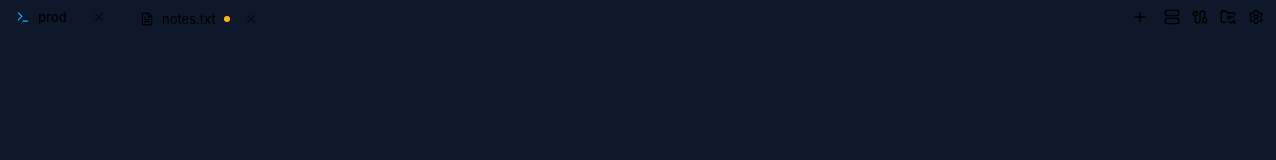
Test case: Tab context menu › offers a new window and every other window, but not the current one
Right-click the tab with test id "tab-t1" at (64, 17), box 16,4 -> 112,30
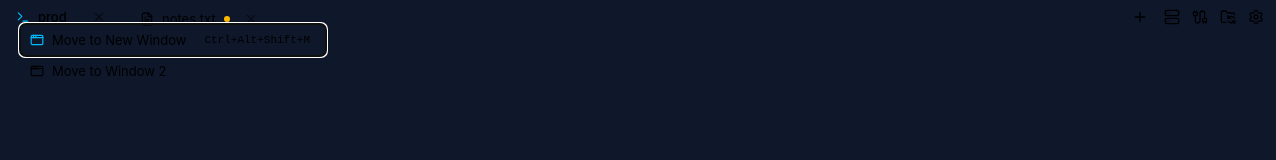
Result: the menu item with test id "tab-move-new-window" is enabled at 20,24 -> 326,56
Result: the text "Move to Window 2" is shown at 30,62 -> 166,80
